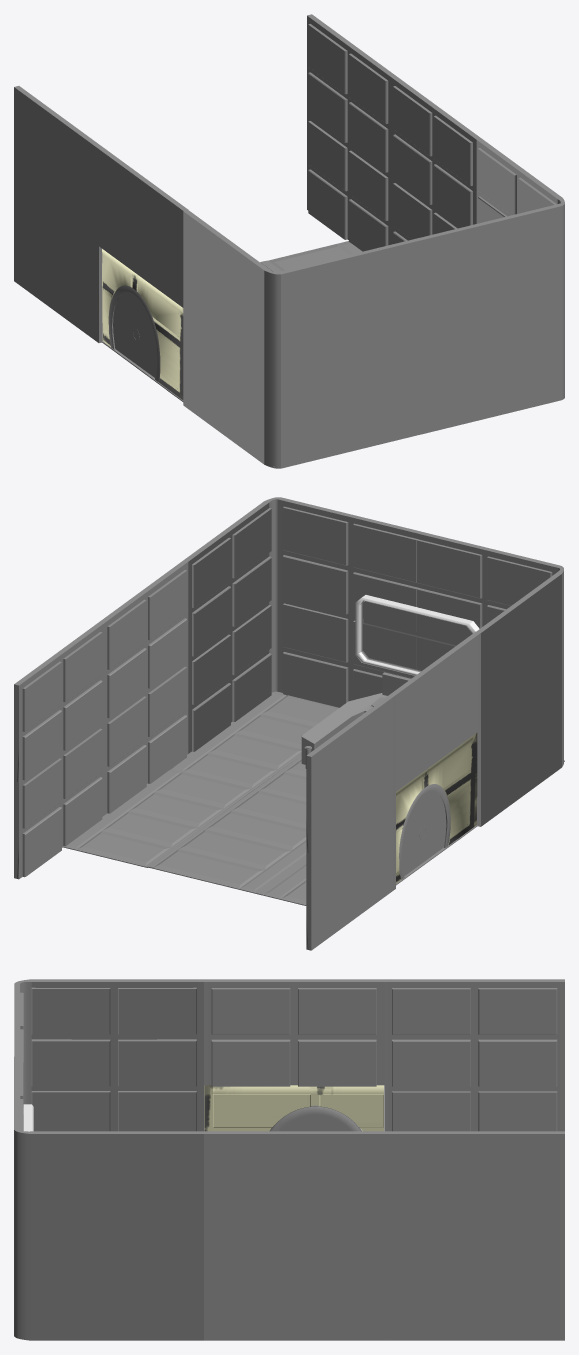
The model's file is ROOM12.FBX.
The picture shows the model from 3 angles, top to bottom: view 1: azimuth 30°, elevation 25°; view 2: azimuth 150°, elevation 25°; view 3: azimuth 270°, elevation 25°; orthographic projection. The views are drawn at different scales.
Parts seen in each view (by area): view 1: pCube009, pCube029, pCube024, pCube028, pCube025, pCube008, pCube030, pCube031, pCube032, pCube026, pCube6, polySurface1_polySurface4 (+2 smaller); view 2: pCube024, pCube028, pCube009, pCube021, pCube025, pCube029, pCube031, pCube008, pCube023, pCube032, pCube030, pCube026 (+7 smaller); view 3: pCube024, pCube009, pCube028, pCube030, pCube031, pCube008, pCube025, pCube027, pCube026, pCube032, pCube029, pCube6 (+1 smaller).
Part boxes in pixels (x1,y1,x2,y2): pCube009: (183,210,421,371); pCube029: (183,308,421,468); pCube024: (419,138,564,337); pCube028: (421,301,564,434); pCube025: (307,14,396,174); pCube008: (391,76,481,227); pCube030: (98,148,188,307); pCube031: (14,86,103,245); pCube032: (14,184,102,342); pCube026: (307,113,391,251); pCube6: (102,249,183,399); polySurface1_polySurface4: (108,285,160,381); pCube024: (183,497,420,658); pCube028: (188,596,417,753); pCube009: (417,531,563,729); pCube021: (148,789,458,905); pCube025: (14,622,103,782); pCube029: (417,633,563,826); pCube031: (306,694,395,853); pCube008: (99,560,188,720); pCube023: (62,769,254,867); pCube032: (306,792,395,950); pCube030: (391,631,480,791); pCube026: (14,721,103,879); pCube024: (14,1056,203,1237); pCube009: (14,979,203,1130); pCube028: (14,1233,203,1340); pCube030: (204,979,384,1086); pCube031: (384,979,564,1086); pCube008: (204,1131,384,1237); pCube025: (384,1131,564,1237); pCube027: (204,1237,384,1340); pCube026: (384,1237,564,1340); pCube032: (384,1085,564,1131); pCube029: (23,1085,204,1131); pCube6: (204,1085,383,1131).
Bounding box in the file's own units: 558 × 348 × 838.
